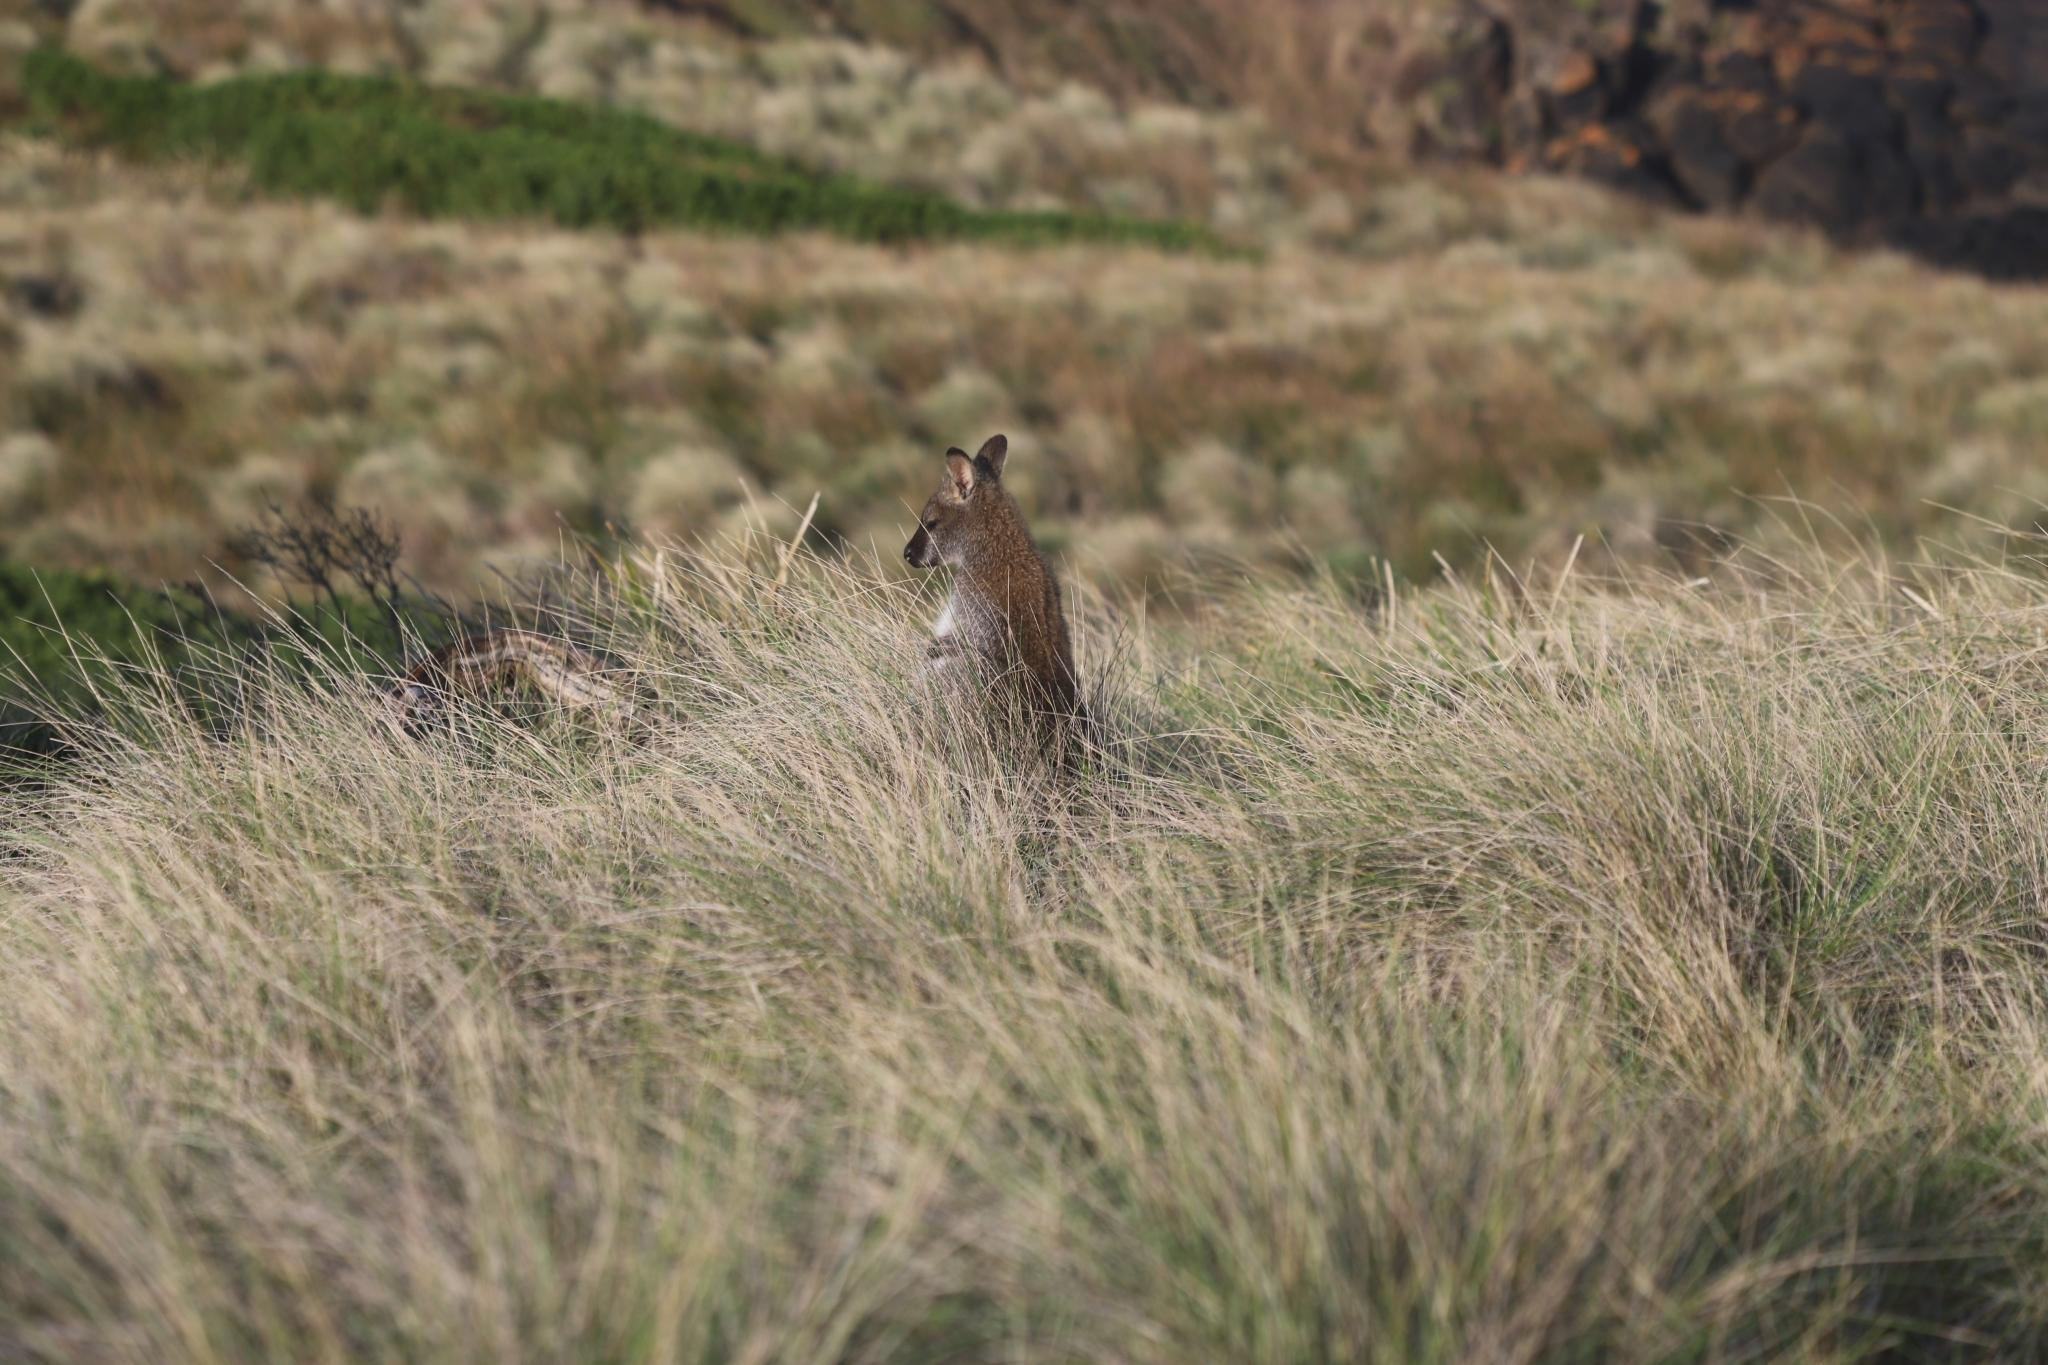Red-necked wallaby: (906, 434, 1096, 801)
